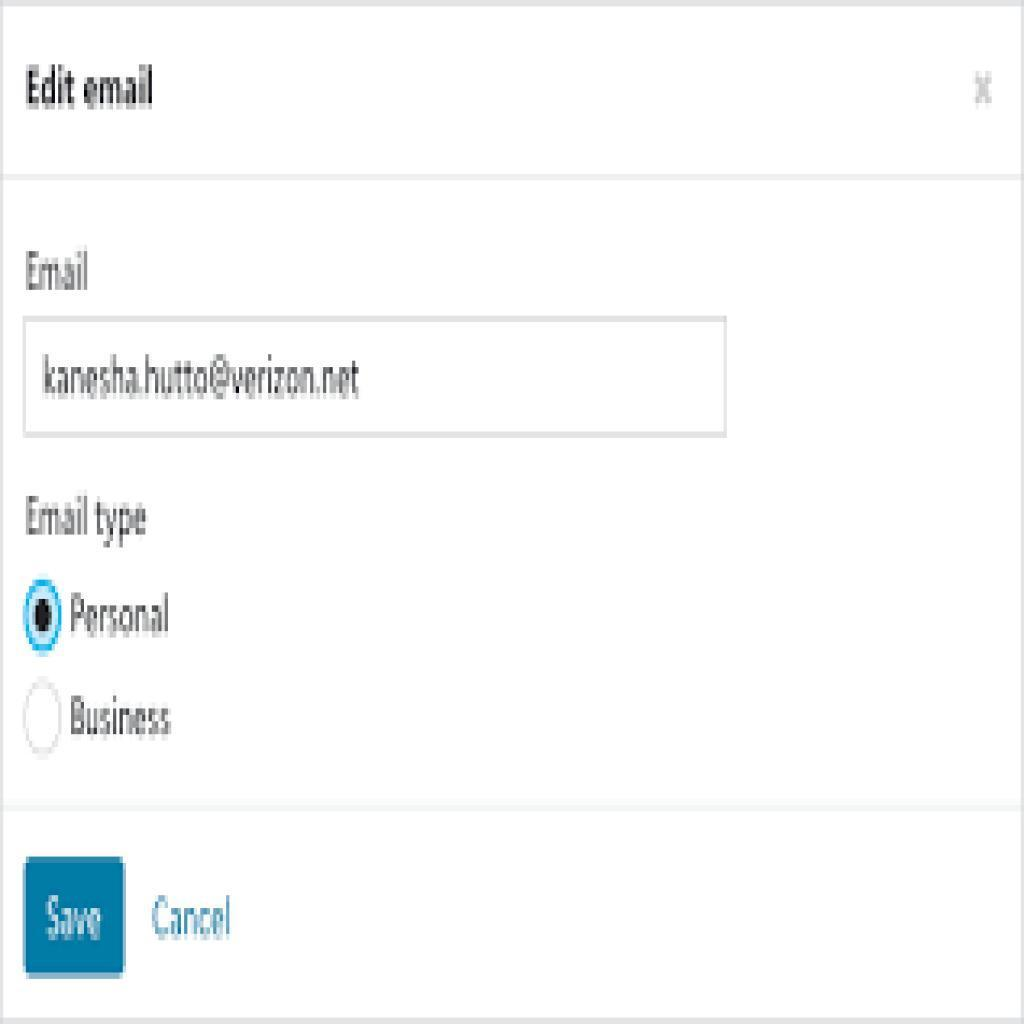button: (24, 857, 126, 977)
input: (25, 316, 723, 431)
label: (17, 487, 155, 545), (23, 61, 159, 119), (67, 589, 174, 641), (69, 691, 173, 742), (147, 893, 237, 946), (25, 241, 94, 299)
radio: (21, 573, 66, 669), (19, 677, 67, 764)
